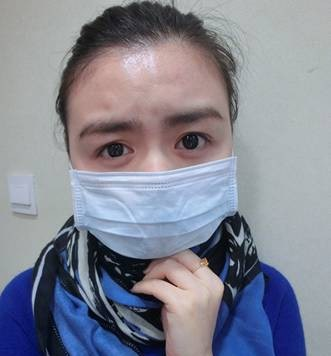face_mask: (71, 52, 231, 258)
